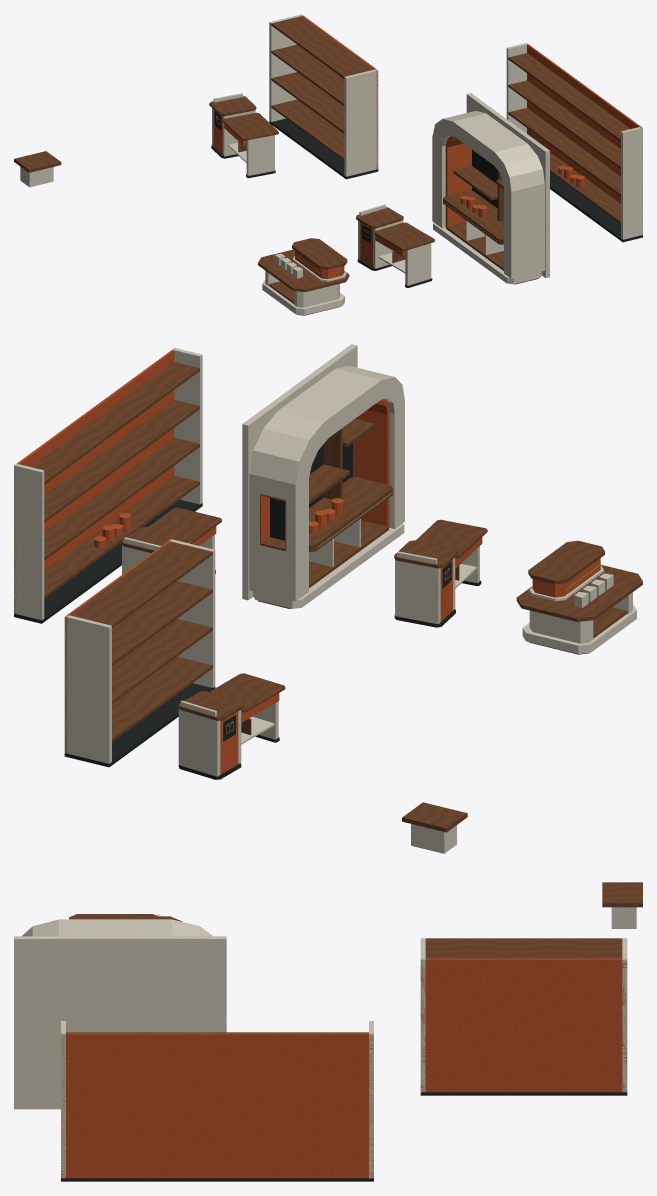
File: SHOP_D09_P72_A340__fitout.glb
3 renders of one model, top to bottom at view 1: azimuth 30°, elevation 25°; view 2: azimuth 150°, elevation 25°; view 3: azimuth 270°, elevation 25°, orthographic. The views are drawn at different scales.
Visible parts, largest first — view 1: SHOP_D09_P72_A340__fitout__ivory_enamel, SHOP_D09_P72_A340__fitout__warm_walnut, SHOP_D09_P72_A340__fitout__retail_terracotta_enamel, SHOP_D09_P72_A340__fitout__dark_rubber; view 2: SHOP_D09_P72_A340__fitout__ivory_enamel, SHOP_D09_P72_A340__fitout__warm_walnut, SHOP_D09_P72_A340__fitout__retail_terracotta_enamel, SHOP_D09_P72_A340__fitout__dark_rubber; view 3: SHOP_D09_P72_A340__fitout__retail_terracotta_enamel, SHOP_D09_P72_A340__fitout__ivory_enamel, SHOP_D09_P72_A340__fitout__warm_walnut, SHOP_D09_P72_A340__fitout__dark_rubber.
Boxes of the visible parts, box(x1,y1,x2,y2) form: SHOP_D09_P72_A340__fitout__ivory_enamel: box(20, 14, 642, 315); SHOP_D09_P72_A340__fitout__warm_walnut: box(14, 16, 630, 303); SHOP_D09_P72_A340__fitout__retail_terracotta_enamel: box(213, 15, 641, 279); SHOP_D09_P72_A340__fitout__dark_rubber: box(211, 111, 642, 315); SHOP_D09_P72_A340__fitout__ivory_enamel: box(14, 344, 636, 853); SHOP_D09_P72_A340__fitout__warm_walnut: box(31, 362, 642, 832); SHOP_D09_P72_A340__fitout__retail_terracotta_enamel: box(14, 348, 600, 774); SHOP_D09_P72_A340__fitout__dark_rubber: box(14, 443, 588, 779); SHOP_D09_P72_A340__fitout__retail_terracotta_enamel: box(61, 958, 627, 1178); SHOP_D09_P72_A340__fitout__ivory_enamel: box(14, 907, 636, 1178); SHOP_D09_P72_A340__fitout__warm_walnut: box(66, 882, 642, 1033); SHOP_D09_P72_A340__fitout__dark_rubber: box(61, 1092, 627, 1181).
Bounding box in the file's own units: 10.25 × 3 × 10.05.
Materials: 5 (5 with a texture image).
